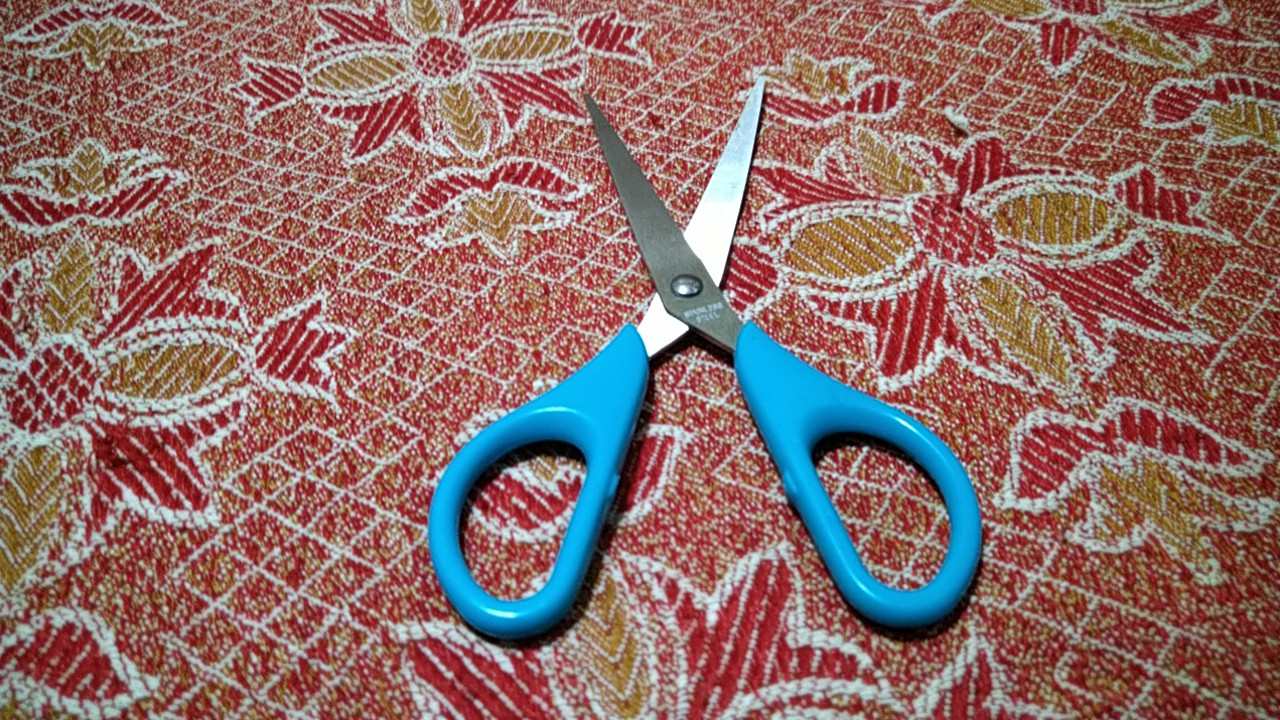scissor: (416, 68, 1005, 683)
